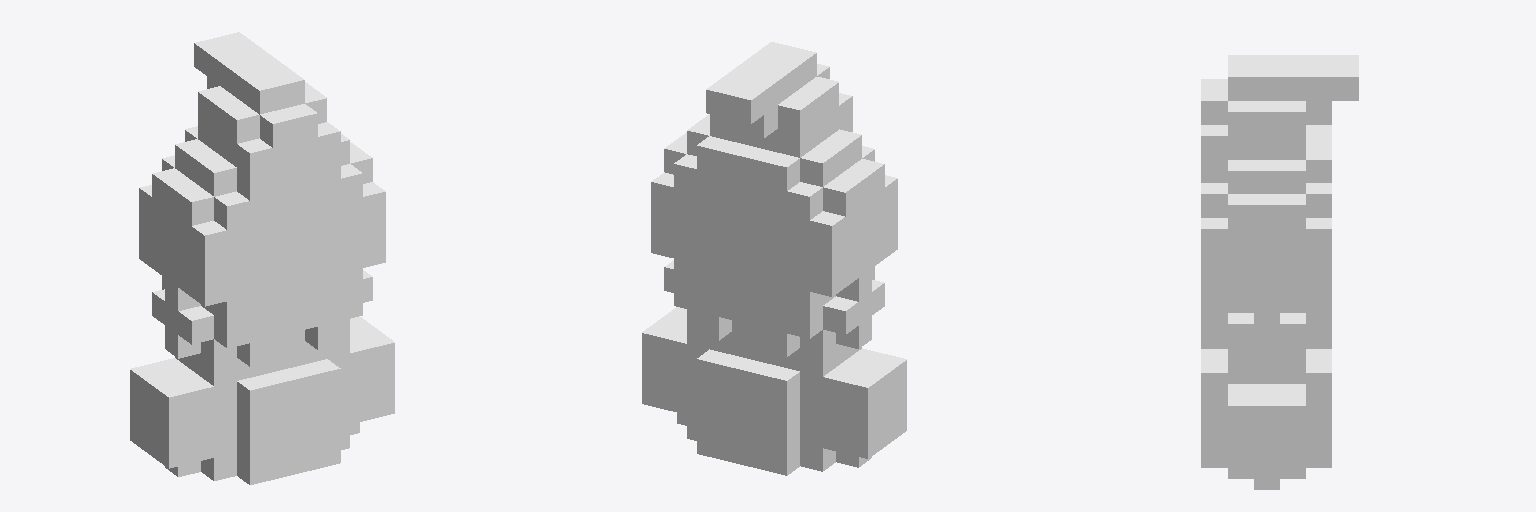
The model's file is skele_knight.obj.
3 views of the same model, side by side, from view 1: azimuth 30°, elevation 25°; view 2: azimuth 150°, elevation 25°; view 3: azimuth 270°, elevation 25° (orthographic).
Parts seen in each view (by area): view 1: skele_knight; view 2: skele_knight; view 3: skele_knight.
Boxes of the visible parts, x1,y1,x2,y2 form: skele_knight: [130, 32, 394, 484]; skele_knight: [642, 42, 906, 475]; skele_knight: [1201, 55, 1358, 489].
Bounding box in the file's own units: 10 × 16 × 6.